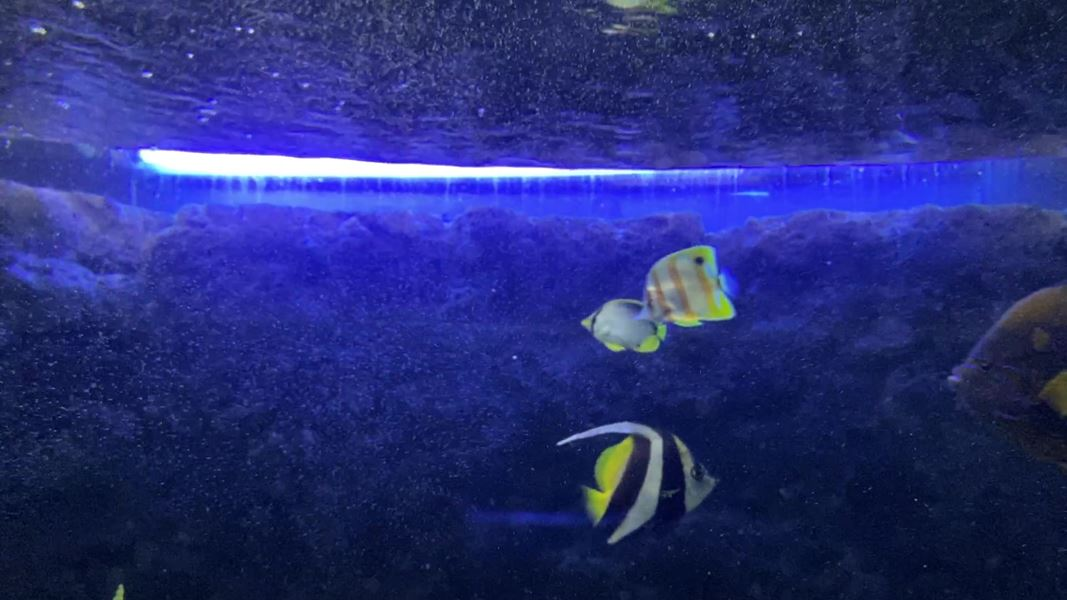Black-backed butterflyfish: (575, 293, 679, 361)
